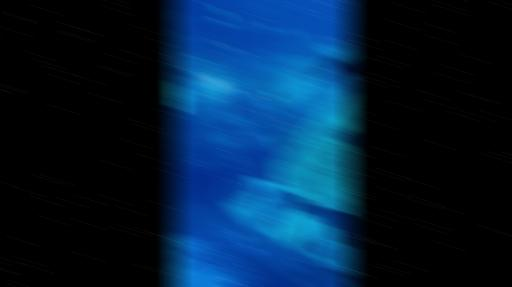Fish: (309, 56, 352, 79), (284, 24, 321, 41), (277, 119, 302, 144), (289, 194, 316, 213), (172, 66, 197, 81), (330, 267, 352, 282), (288, 235, 305, 247), (259, 22, 276, 33), (314, 245, 327, 256), (267, 94, 282, 103), (295, 116, 312, 123), (272, 140, 281, 152), (268, 81, 281, 88), (218, 11, 231, 18), (189, 56, 206, 61), (204, 38, 219, 43), (222, 45, 237, 50), (217, 20, 230, 25), (214, 8, 227, 13), (262, 111, 268, 121), (292, 32, 300, 37), (213, 20, 223, 24), (324, 18, 333, 22)
